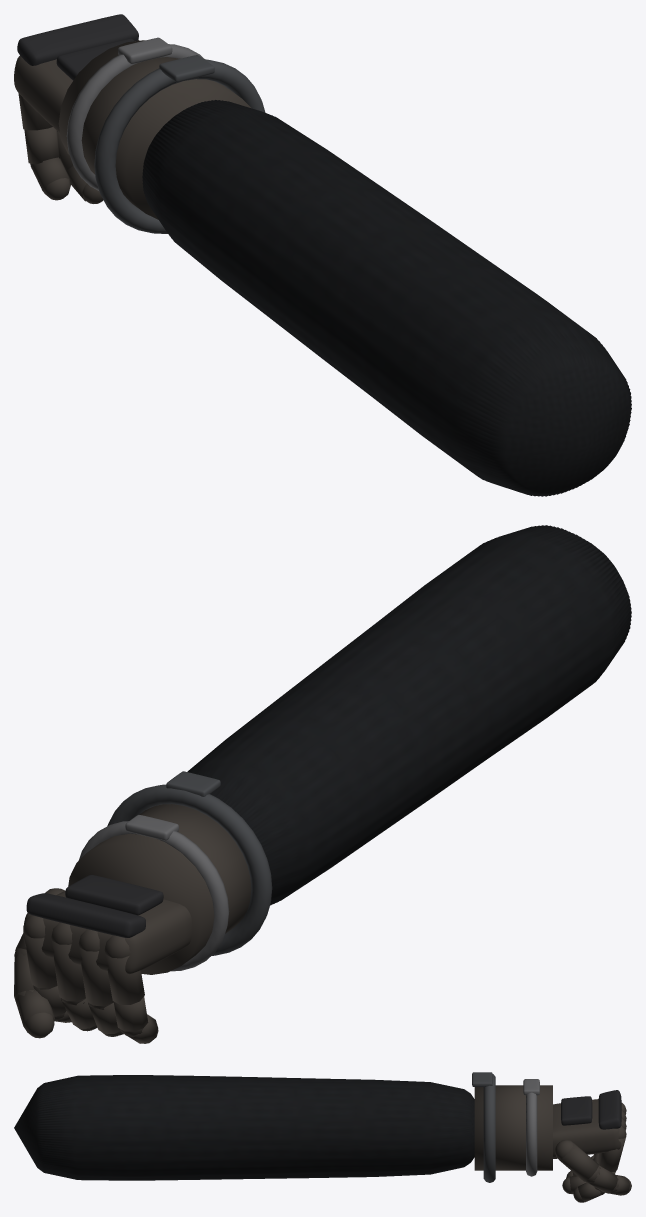
Rendered from arm.glb.
3 renders of one model, top to bottom at view 1: azimuth 30°, elevation 25°; view 2: azimuth 150°, elevation 25°; view 3: azimuth 270°, elevation 25°, orthographic. The views are drawn at different scales.
Visible parts, largest first — view 1: sleeve, wrist, cuff, knuckle_pad, wrist_strap, palm, finger3_1, cuff_tab, back_pad, strap_tab, finger3_2; view 2: sleeve, wrist, cuff, palm, wrist_strap, knuckle_pad, back_pad, finger1_0, finger3_0, finger2_0, finger0_0, strap_tab (+3 smaller); view 3: sleeve, wrist, palm, cuff, wrist_strap, knuckle_pad, back_pad, thumb_0, finger0_0, thumb_1, cuff_tab, finger0_2 (+3 smaller).
Boxes of the visible parts, bbox=[...] form: sleeve: bbox=[142, 100, 631, 496]; wrist: bbox=[58, 40, 251, 219]; cuff: bbox=[94, 59, 265, 233]; knuckle_pad: bbox=[17, 14, 138, 65]; wrist_strap: bbox=[66, 44, 204, 190]; palm: bbox=[14, 40, 138, 132]; finger3_1: bbox=[24, 127, 60, 164]; cuff_tab: bbox=[159, 55, 214, 82]; back_pad: bbox=[56, 38, 134, 80]; strap_tab: bbox=[118, 37, 172, 63]; finger3_2: bbox=[30, 157, 70, 192]; sleeve: bbox=[187, 525, 631, 905]; wrist: bbox=[68, 804, 251, 974]; cuff: bbox=[107, 784, 272, 955]; palm: bbox=[23, 890, 192, 974]; wrist_strap: bbox=[78, 821, 229, 971]; knuckle_pad: bbox=[26, 893, 145, 937]; back_pad: bbox=[65, 875, 163, 915]; finger1_0: bbox=[51, 939, 85, 1001]; finger3_0: bbox=[105, 953, 144, 1004]; finger2_0: bbox=[79, 946, 113, 1005]; finger0_0: bbox=[23, 928, 57, 988]; strap_tab: bbox=[125, 815, 178, 840]; sleeve: bbox=[14, 1075, 474, 1180]; wrist: bbox=[474, 1085, 552, 1170]; palm: bbox=[553, 1099, 622, 1157]; cuff: bbox=[483, 1074, 495, 1182]; wrist_strap: bbox=[526, 1092, 537, 1176]; knuckle_pad: bbox=[598, 1090, 621, 1129]; back_pad: bbox=[561, 1096, 592, 1125]; thumb_0: bbox=[559, 1142, 598, 1181]; finger0_0: bbox=[598, 1136, 626, 1171]; thumb_1: bbox=[589, 1165, 617, 1193]; cuff_tab: bbox=[472, 1072, 492, 1086]; finger0_2: bbox=[578, 1183, 602, 1202].
Bounding box in the file's own units: 0.1118 × 0.1191 × 0.5906.
Materials: 5 (1 with a texture image).
